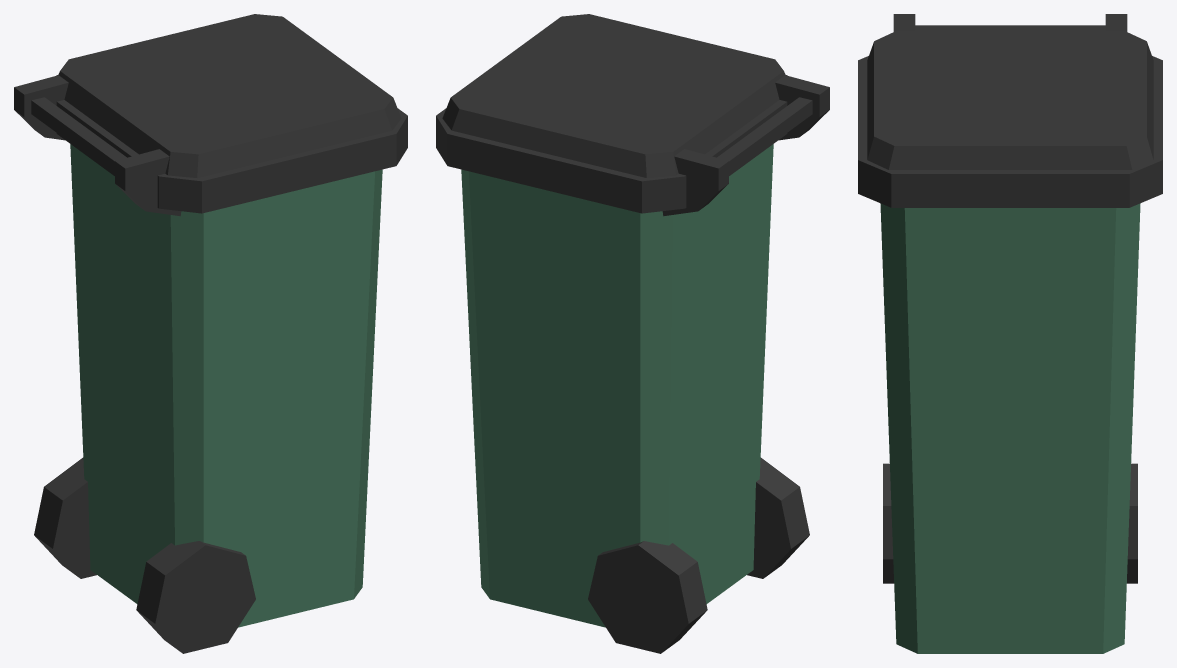
Rendered from GarbageCan.glb.
3 renders of one model, left to right at view 1: azimuth 30°, elevation 25°; view 2: azimuth 150°, elevation 25°; view 3: azimuth 270°, elevation 25°, orthographic. The views are drawn at different scales.
Parts seen in each view (by area): view 1: GarbageCan_mesh; view 2: GarbageCan_mesh; view 3: GarbageCan_mesh.
Part boxes in pixels (<box>): GarbageCan_mesh: <box>14,14,407,653</box>; GarbageCan_mesh: <box>436,14,829,653</box>; GarbageCan_mesh: <box>858,14,1162,653</box>.
Size of the model in its own units: 0.56 by 0.95 by 0.5.
Materials: 1 (1 with a texture image).
